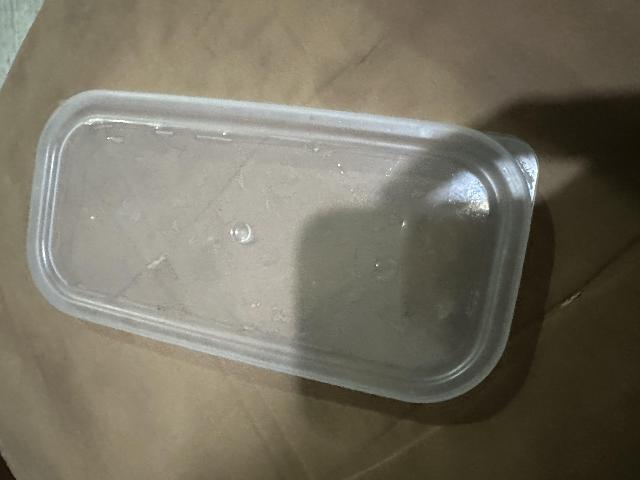Plastik: (29, 89, 540, 405)
